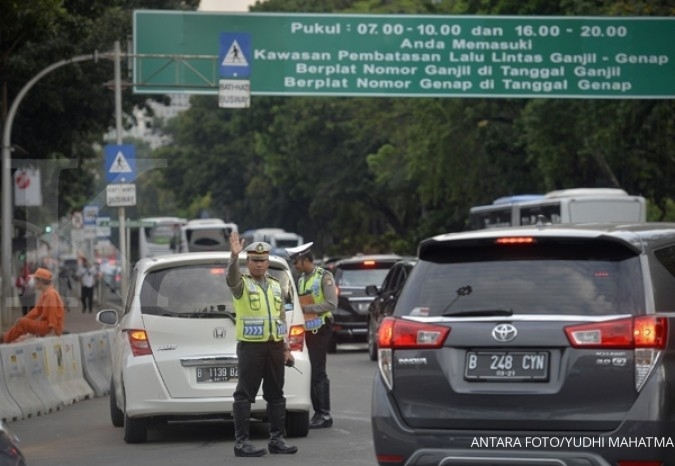plate: (464, 353, 544, 381), (195, 368, 236, 383), (355, 302, 369, 311)
